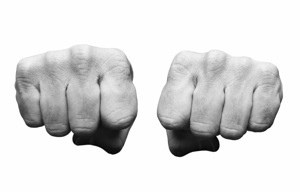fist: (159, 49, 287, 159), (17, 46, 138, 154)
